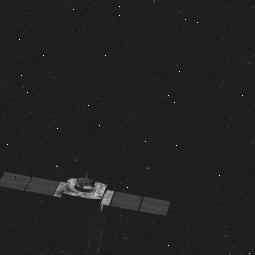soho: (23, 175, 156, 219)
